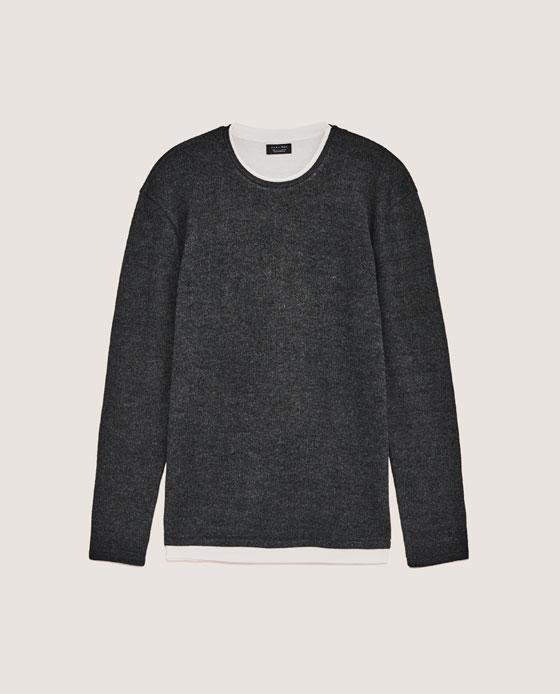teeshirt: (79, 112, 499, 639)
